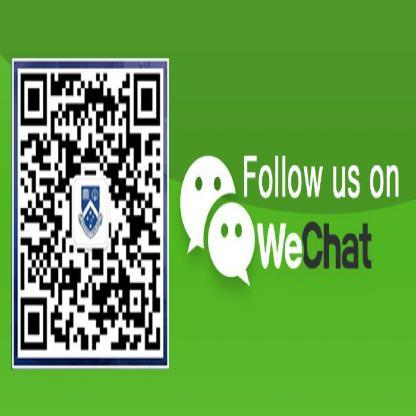qr_code: (20, 72, 160, 350)
